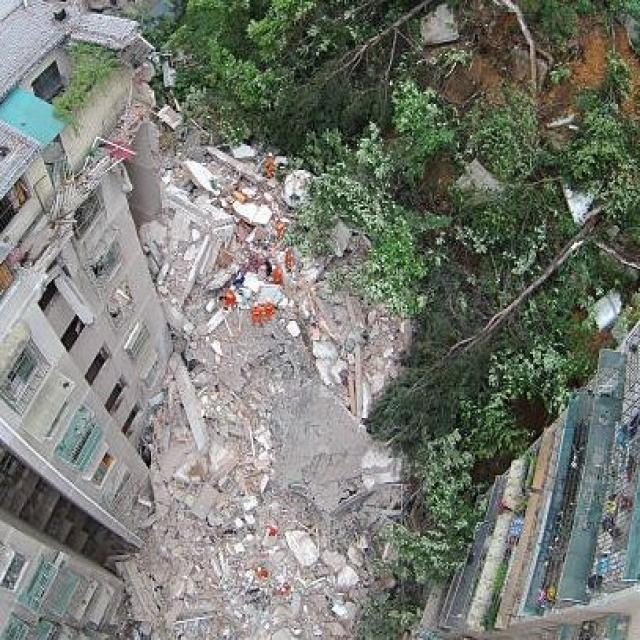collapsed_building: (0, 19, 255, 562)
